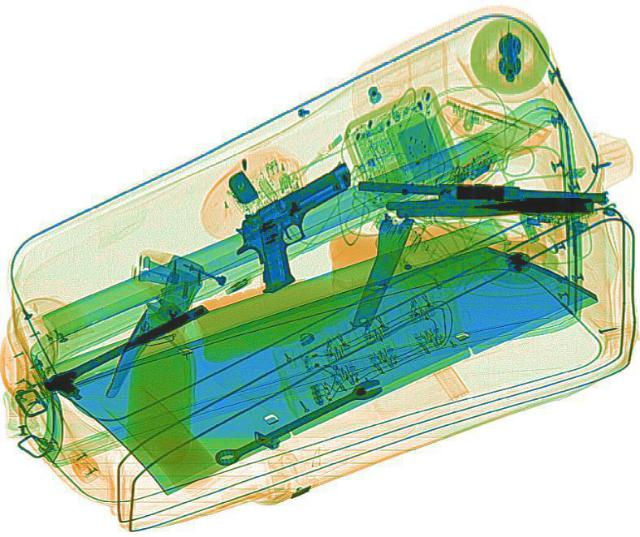Gun: (209, 159, 403, 294)
Wrench: (211, 373, 389, 470)
